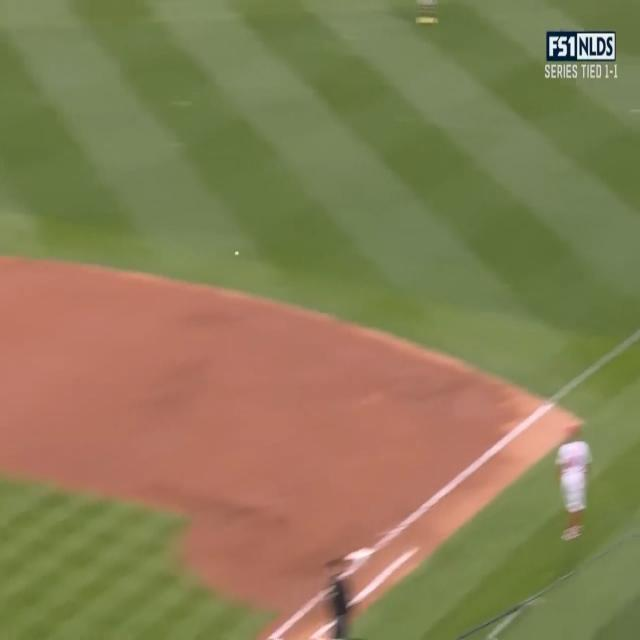baseball: (234, 250, 240, 256)
